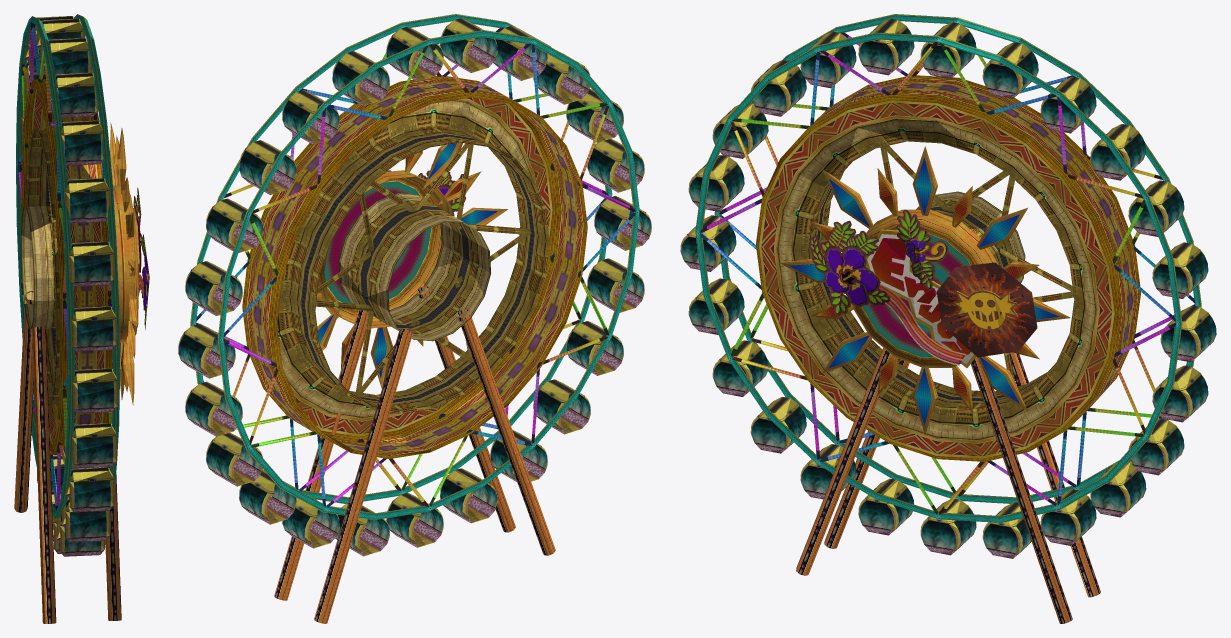
The model's file is stg110_MotWheel_b2_02.obj.
3 views of the same model, side by side, from view 1: azimuth 30°, elevation 25°; view 2: azimuth 150°, elevation 25°; view 3: azimuth 270°, elevation 25° (orthographic). The views are drawn at different scales.
Visible parts, largest first — view 1: polygon7, polygon15, polygon16, polygon9, polygon8, polygon13, polygon14, polygon65, polygon80, polygon77, polygon59, polygon62 (+20 smaller); view 2: polygon16, polygon13, polygon15, polygon8, polygon7, polygon14, polygon9, polygon10, polygon12, polygon74, polygon38, polygon44 (+43 smaller); view 3: polygon16, polygon13, polygon15, polygon14, polygon7, polygon9, polygon1, polygon5, polygon12, polygon4, polygon10, polygon8 (+39 smaller).
Boxes of the visible parts, x1=… form: polygon7: x1=14, y1=291, x2=121, y2=623; polygon15: x1=16, y1=14, x2=119, y2=518; polygon16: x1=21, y1=79, x2=112, y2=455; polygon9: x1=109, y1=122, x2=138, y2=405; polygon8: x1=21, y1=206, x2=55, y2=329; polygon13: x1=26, y1=127, x2=60, y2=407; polygon14: x1=18, y1=22, x2=112, y2=510; polygon65: x1=71, y1=245, x2=110, y2=282; polygon80: x1=66, y1=500, x2=106, y2=538; polygon77: x1=71, y1=470, x2=110, y2=508; polygon59: x1=62, y1=124, x2=101, y2=161; polygon62: x1=67, y1=182, x2=106, y2=219; polygon16: x1=242, y1=75, x2=587, y2=458; polygon13: x1=277, y1=100, x2=549, y2=417; polygon15: x1=190, y1=14, x2=639, y2=520; polygon8: x1=338, y1=193, x2=490, y2=341; polygon7: x1=274, y1=286, x2=555, y2=623; polygon14: x1=196, y1=27, x2=635, y2=507; polygon9: x1=317, y1=142, x2=508, y2=388; polygon10: x1=324, y1=181, x2=430, y2=303; polygon12: x1=318, y1=143, x2=497, y2=378; polygon74: x1=587, y1=269, x2=644, y2=307; polygon38: x1=185, y1=272, x2=242, y2=310; polygon44: x1=239, y1=151, x2=296, y2=187; polygon16: x1=755, y1=75, x2=1141, y2=461; polygon13: x1=777, y1=119, x2=1096, y2=439; polygon15: x1=695, y1=14, x2=1201, y2=522; polygon14: x1=700, y1=32, x2=1195, y2=514; polygon7: x1=796, y1=348, x2=1100, y2=623; polygon9: x1=779, y1=146, x2=1070, y2=434; polygon1: x1=809, y1=209, x2=948, y2=315; polygon5: x1=936, y1=262, x2=1037, y2=357; polygon12: x1=789, y1=157, x2=1059, y2=425; polygon4: x1=871, y1=238, x2=970, y2=354; polygon10: x1=863, y1=234, x2=969, y2=356; polygon8: x1=916, y1=191, x2=1025, y2=282.
Bounding box in the file's own units: 386 × 870 × 757.
